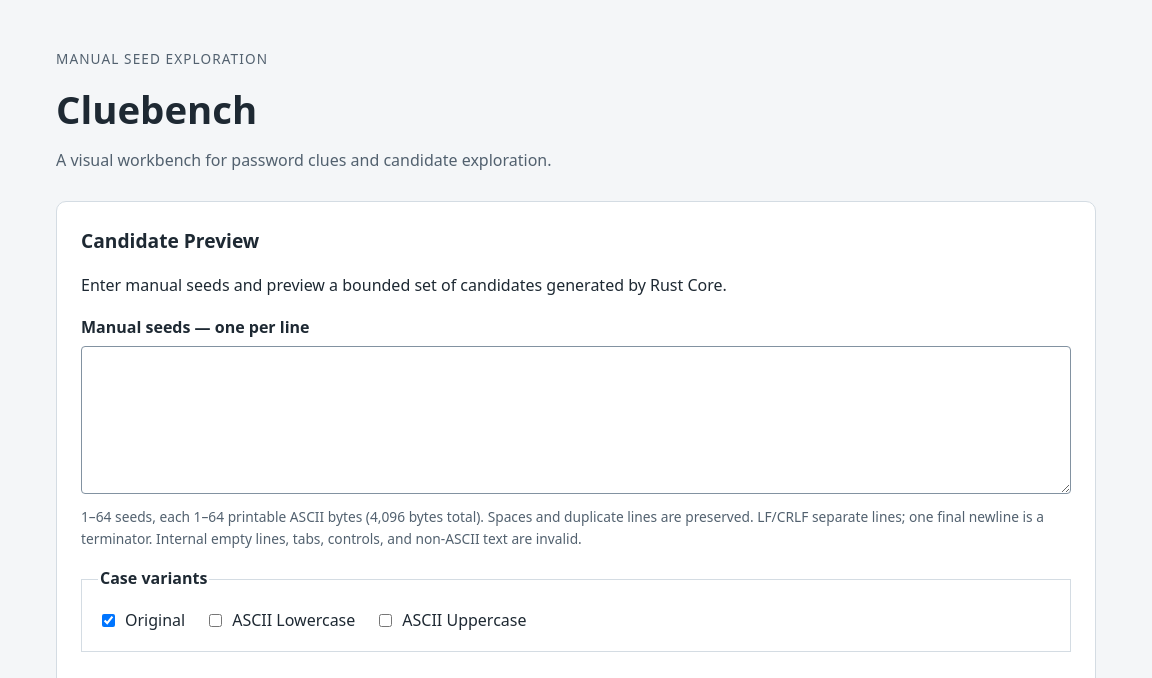
it: Clue-backed editing (React/jsdom, mock IPC) › retains a hypothesis after its last effect is removed
This screenshot has width=1152, height=678.
Type "Synthetic1!" into the text box labelled "Manual seeds — one per line".
click(576, 420); type("Synthetic1!")  # box left=81, top=346, right=1071, bottom=494
(page scrolled)
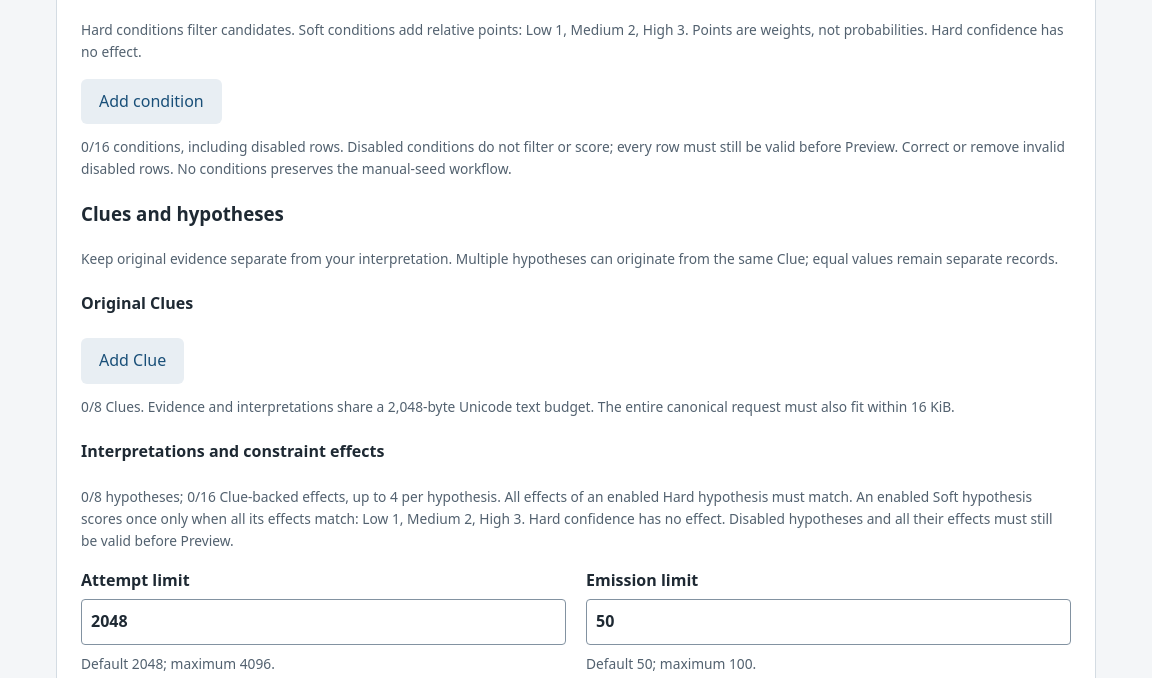
Click the button "Add Clue".
click(133, 361)  # box left=81, top=338, right=184, bottom=384
(page scrolled)
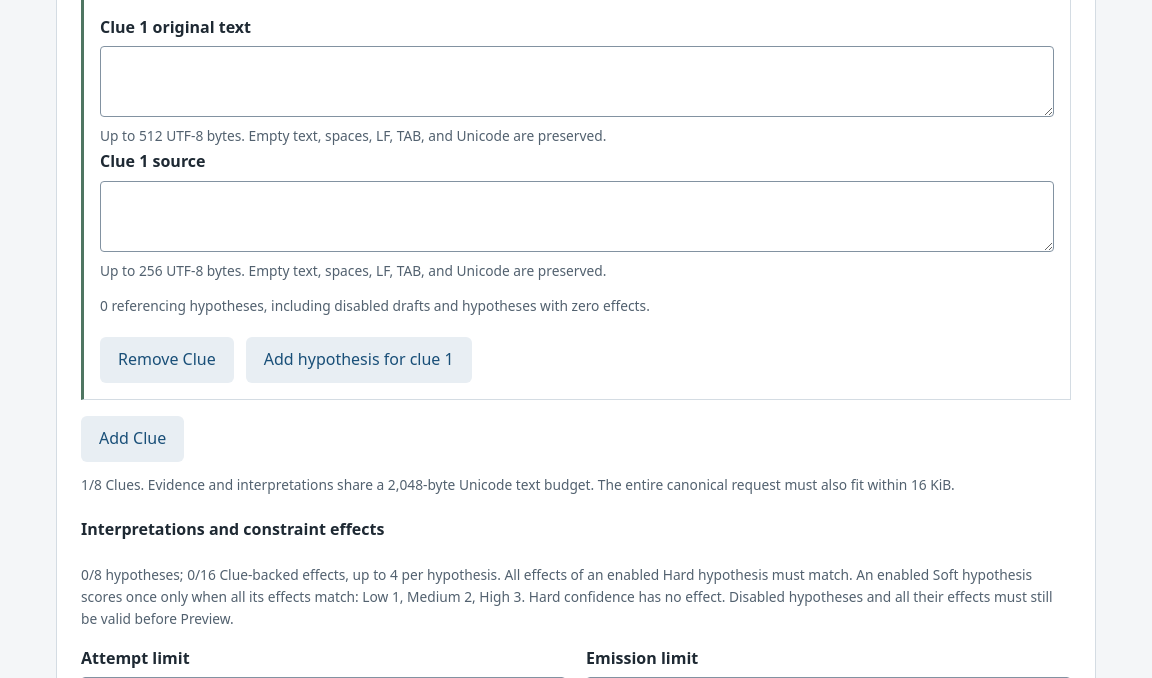
Click the button "Add hypothesis for clue 1".
click(359, 360)  # box left=246, top=337, right=472, bottom=383
(page scrolled)
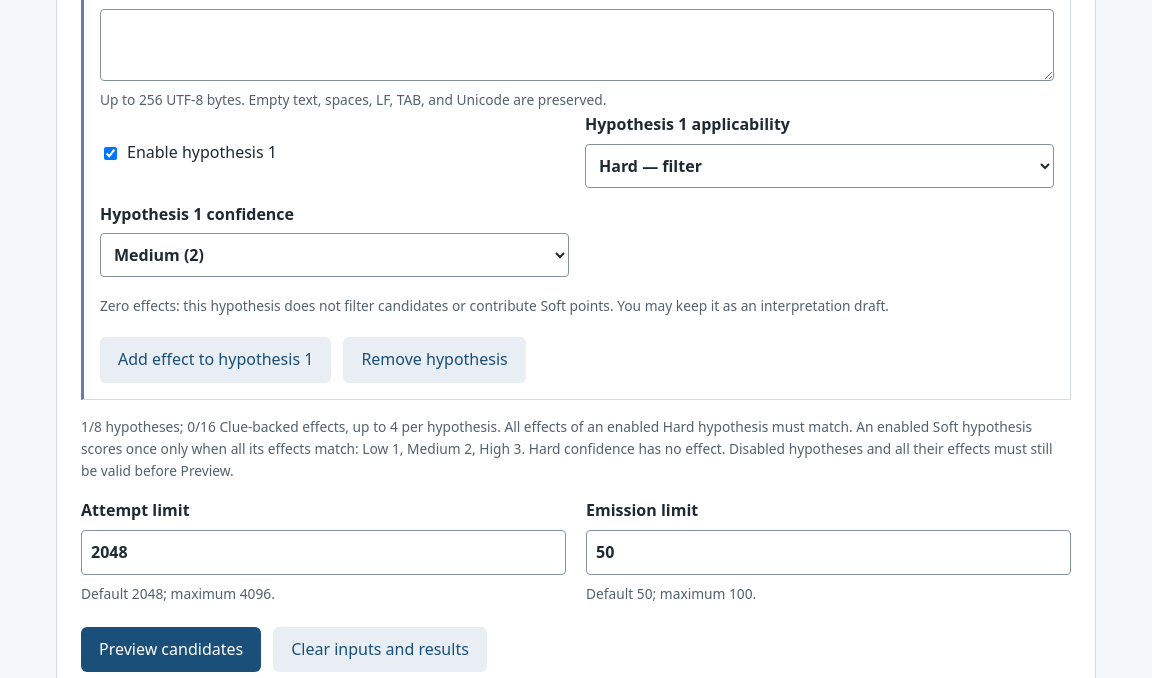
Click the button "Add effect to hypothesis 1".
click(216, 360)  # box left=100, top=338, right=331, bottom=383
(page scrolled)
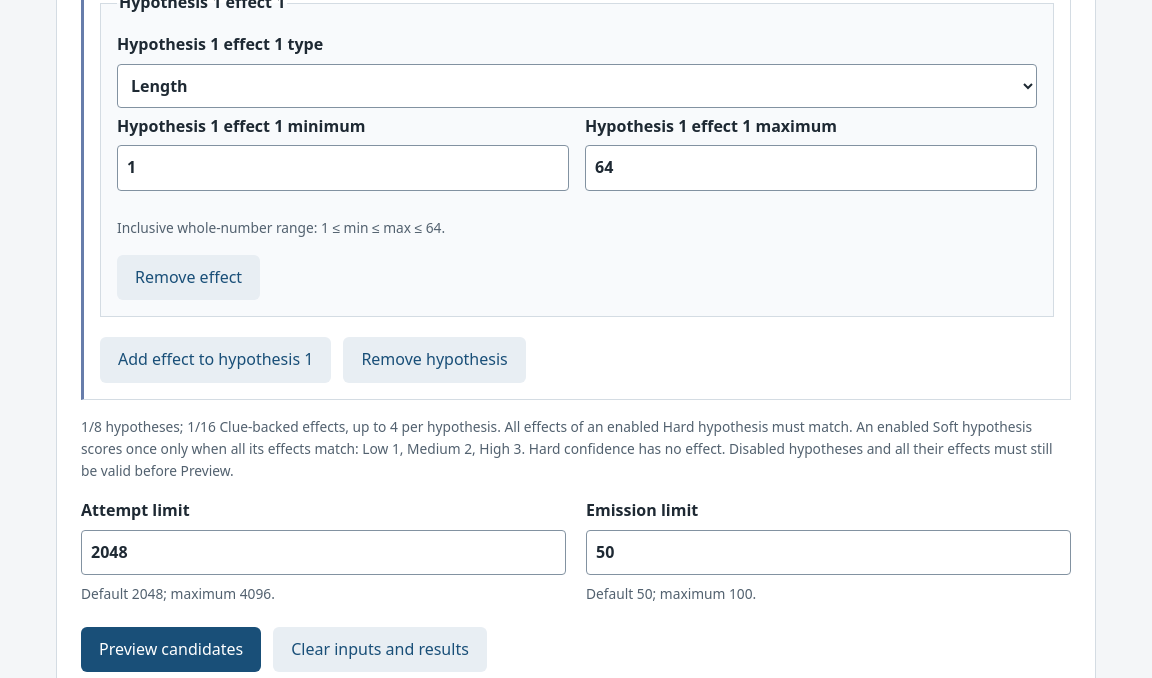
Click the button with aria-label "Remove hypothesis 1 effect 1".
click(189, 278)  # box left=117, top=255, right=260, bottom=300
(page scrolled)
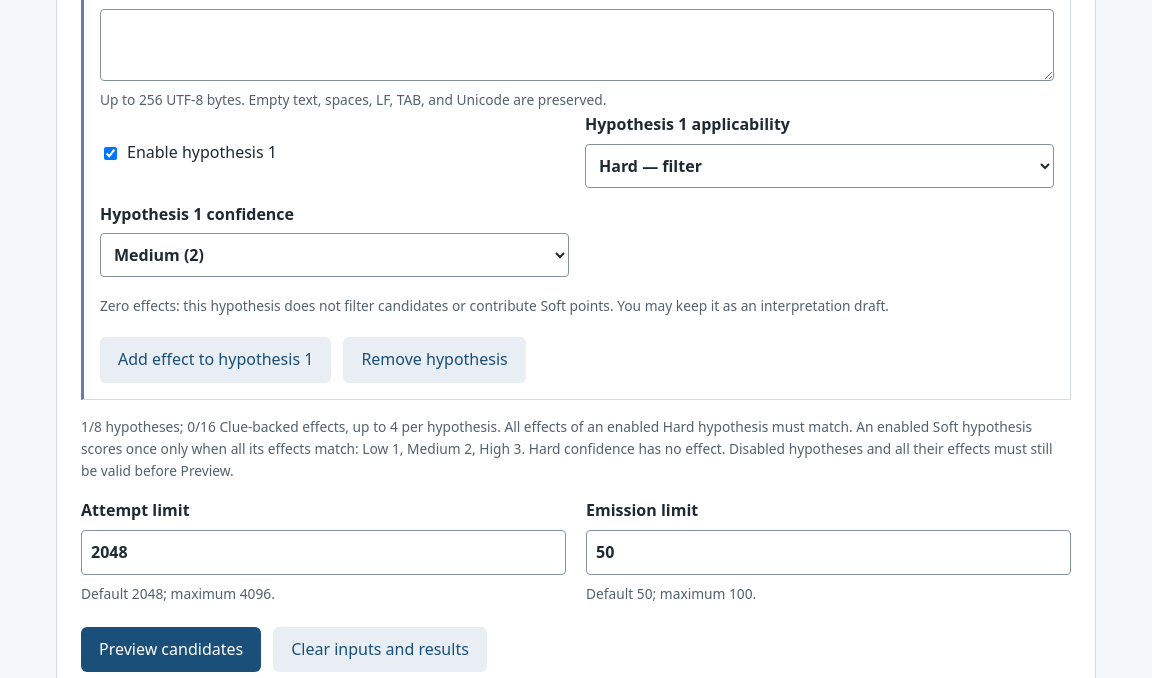
Result: the text box labelled "Hypothesis 1 interpretation" is shown at left=100, top=10, right=1054, bottom=81
Result: the button "Preview candidates" is enabled at left=81, top=627, right=261, bottom=672
Result: the text "Zero effects:" is shown at left=100, top=296, right=889, bottom=315
